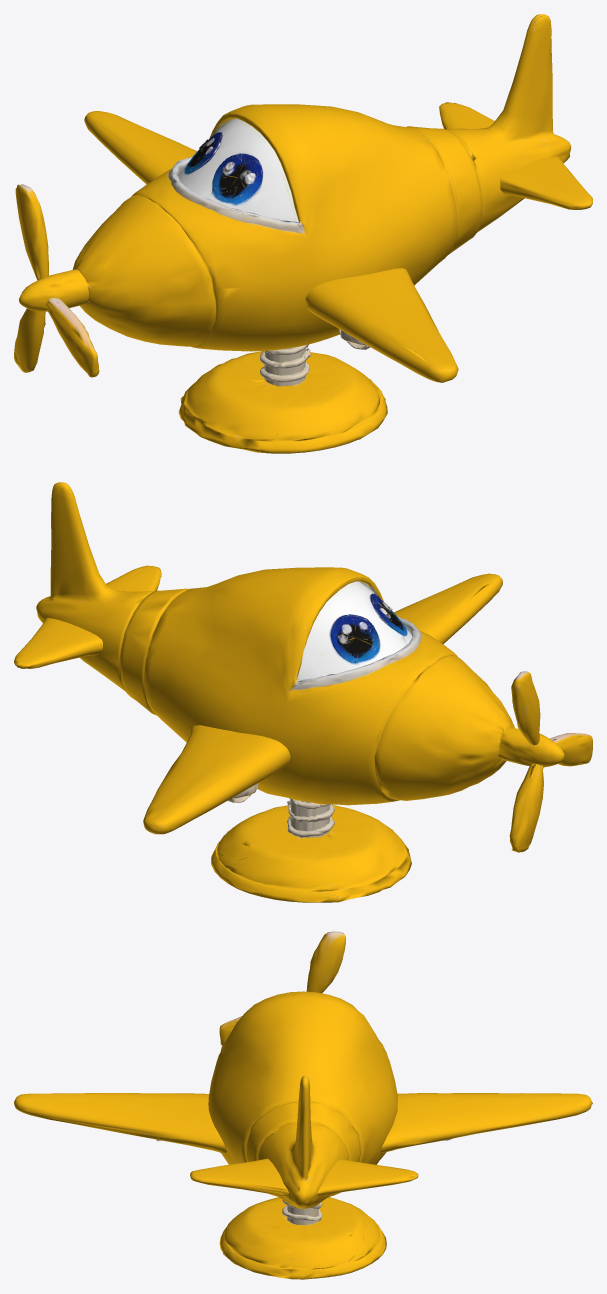
The model's file is bobble.glb.
The picture shows the model from 3 angles, top to bottom: view 1: azimuth 30°, elevation 25°; view 2: azimuth 150°, elevation 25°; view 3: azimuth 270°, elevation 25°; orthographic projection. The views are drawn at different scales.
Size of the model in its own units: 0.8442 by 0.4878 by 0.9517.
1 material, 1 textured.
